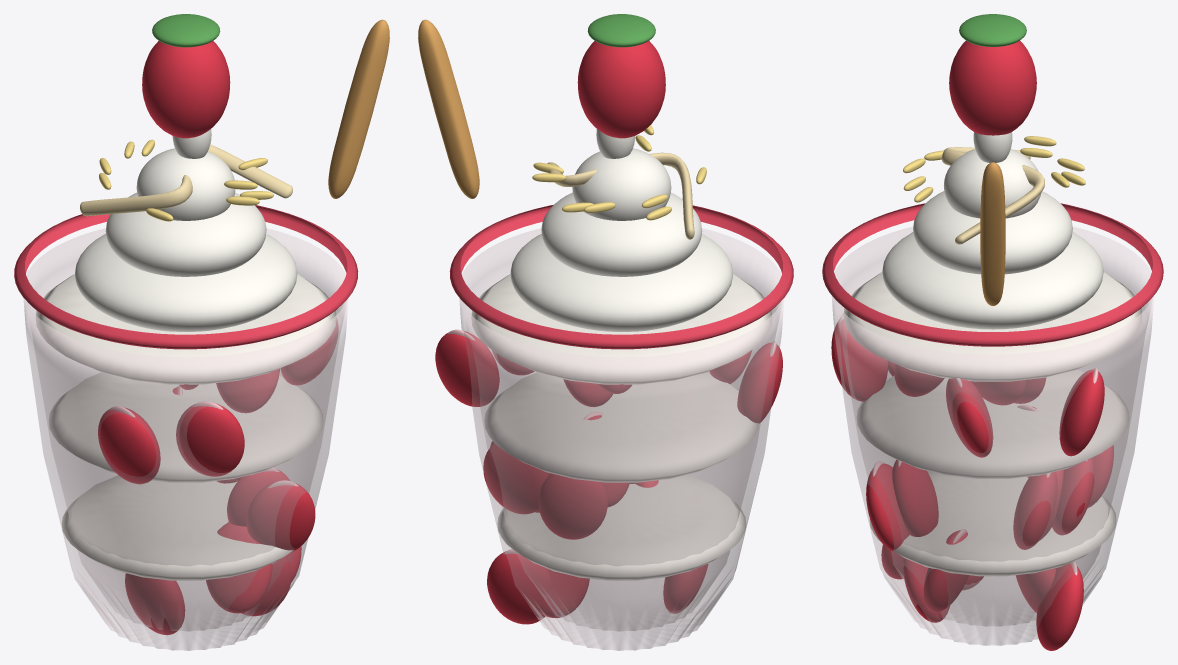
File: comida_fresas_chef.glb
3 views of the same model, side by side, from view 1: azimuth 30°, elevation 25°; view 2: azimuth 150°, elevation 25°; view 3: azimuth 270°, elevation 25° (orthographic).
Visible parts, largest first — view 1: vaso fresas.001, crema capa 0.001, crema capa 1.001, crema capa 2.001, crema fresas 0.001, borde vaso fresas.001, crema fresas 1.001, fresa entera.001, barquillo.001, crema fresas 2.001, fresa capa 2 3.001, fresa capa 1 1.001 (+10 smaller); view 2: vaso fresas.001, crema capa 1.001, crema capa 0.001, crema capa 2.001, crema fresas 0.001, borde vaso fresas.001, crema fresas 1.001, fresa entera.001, crema fresas 2.001, barquillo.001, fresa capa 2 7.001, fresa capa 1 5.001 (+10 smaller); view 3: vaso fresas.001, crema capa 1.001, crema capa 2.001, crema capa 0.001, crema fresas 0.001, borde vaso fresas.001, crema fresas 1.001, fresa entera.001, crema fresas 2.001, barquillo.001, fresa capa 0 3.001, fresa capa 2 3.001 (+16 smaller).
Part boxes in pixels (<box>): vaso fresas.001: <box>23,228,348,650</box>; crema capa 0.001: <box>61,475,293,580</box>; crema capa 1.001: <box>48,372,323,482</box>; crema capa 2.001: <box>35,274,336,384</box>; crema fresas 0.001: <box>75,233,297,331</box>; borde vaso fresas.001: <box>14,205,358,349</box>; crema fresas 1.001: <box>105,192,266,276</box>; fresa entera.001: <box>142,41,230,138</box>; barquillo.001: <box>328,19,389,198</box>; crema fresas 2.001: <box>136,148,235,220</box>; fresa capa 2 3.001: <box>176,403,244,476</box>; fresa capa 1 1.001: <box>246,483,315,553</box>; vaso fresas.001: <box>459,228,784,650</box>; crema capa 1.001: <box>484,372,758,482</box>; crema capa 0.001: <box>497,475,746,580</box>; crema capa 2.001: <box>471,274,772,384</box>; crema fresas 0.001: <box>510,233,732,331</box>; borde vaso fresas.001: <box>449,204,793,349</box>; crema fresas 1.001: <box>541,192,702,276</box>; fresa entera.001: <box>577,41,665,138</box>; crema fresas 2.001: <box>572,148,671,220</box>; barquillo.001: <box>418,19,479,198</box>; fresa capa 2 7.001: <box>435,331,499,406</box>; fresa capa 1 5.001: <box>538,473,607,539</box>; vaso fresas.001: <box>831,226,1154,645</box>; crema capa 1.001: <box>856,369,1129,478</box>; crema capa 2.001: <box>843,272,1142,381</box>; crema capa 0.001: <box>869,471,1116,576</box>; crema fresas 0.001: <box>882,232,1103,329</box>; borde vaso fresas.001: <box>822,203,1163,346</box>; crema fresas 1.001: <box>913,191,1072,274</box>; fresa entera.001: <box>949,41,1036,135</box>; crema fresas 2.001: <box>944,149,1041,218</box>; barquillo.001: <box>980,162,1005,305</box>; fresa capa 0 3.001: <box>1036,563,1083,650</box>; fresa capa 2 3.001: <box>831,319,888,401</box>.
Size of the model in its own units: 0.2495 by 0.4109 by 0.212.
